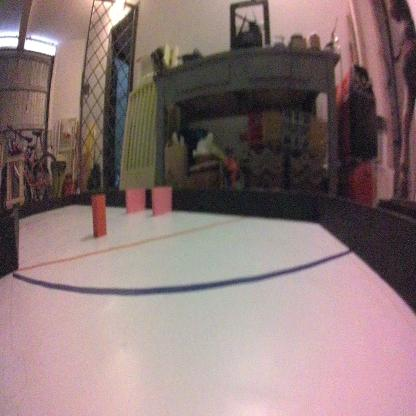magenta: (152, 186, 172, 220), (125, 182, 145, 214)
red: (90, 186, 107, 238)
